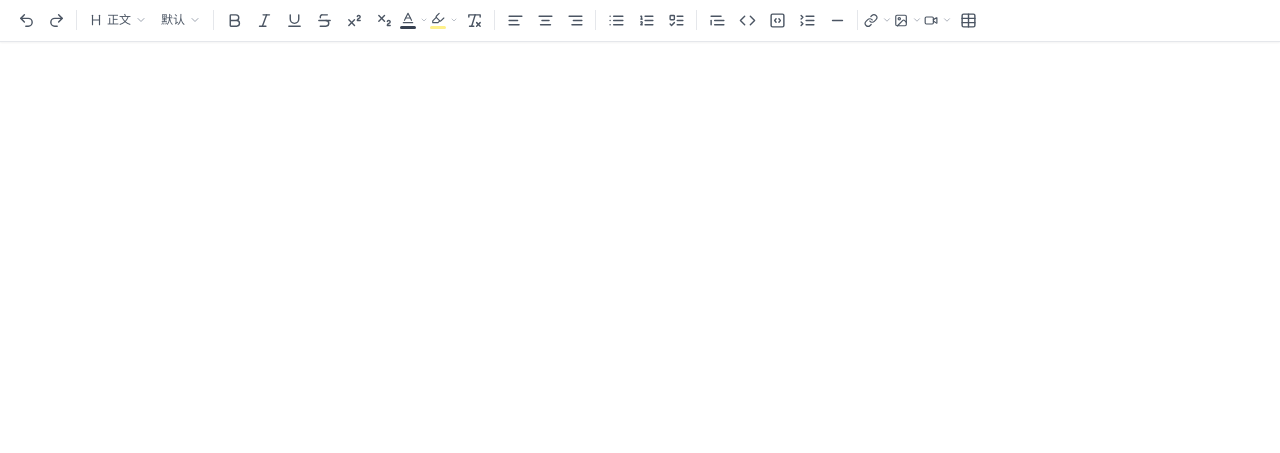
it: the menus › close on Escape
The image size is (1280, 453).
Click the button with aria-label "字号" at (181, 20), box [155, 6, 207, 34]
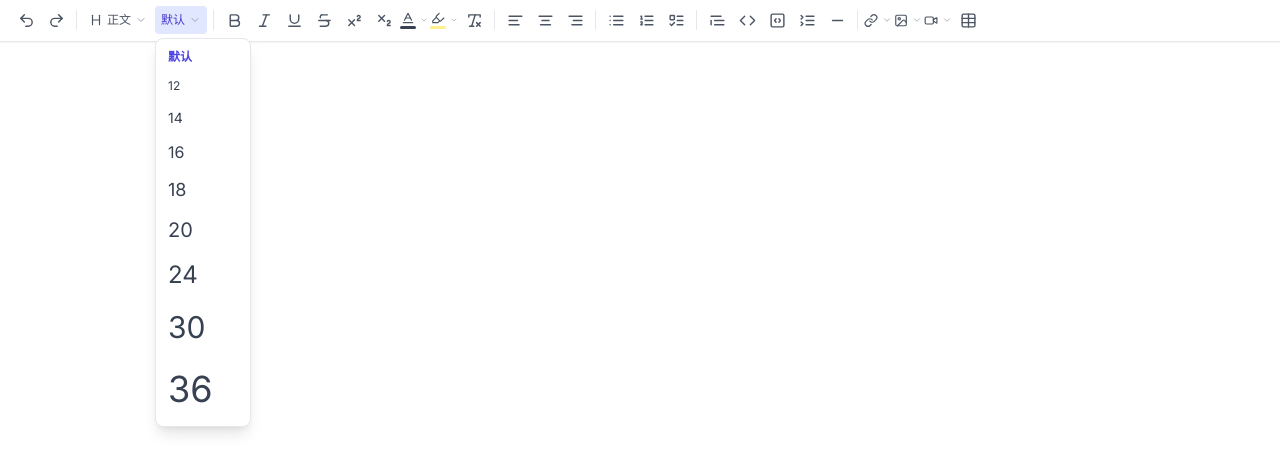
Press Escape
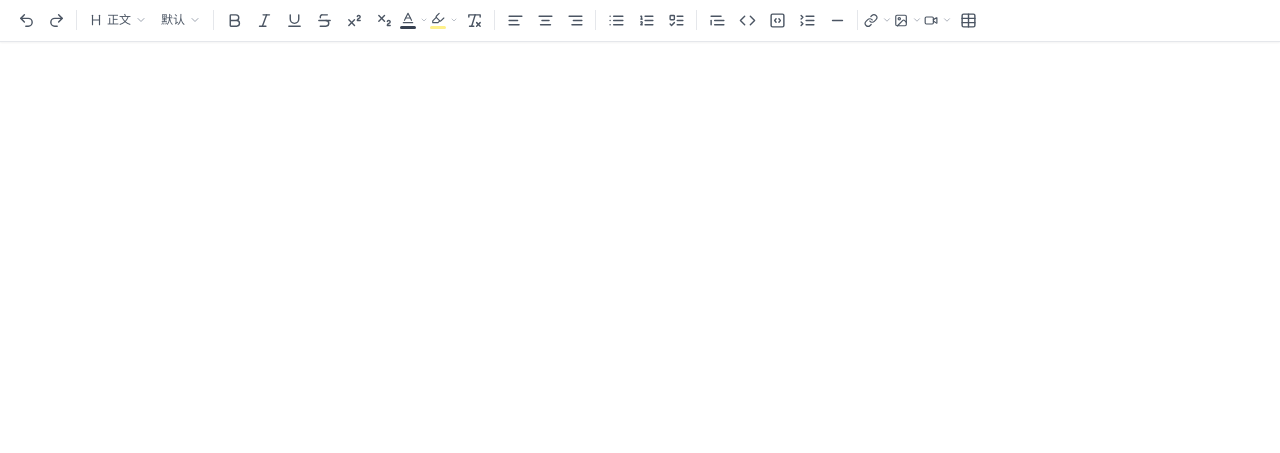
expect the menu is gone: met
